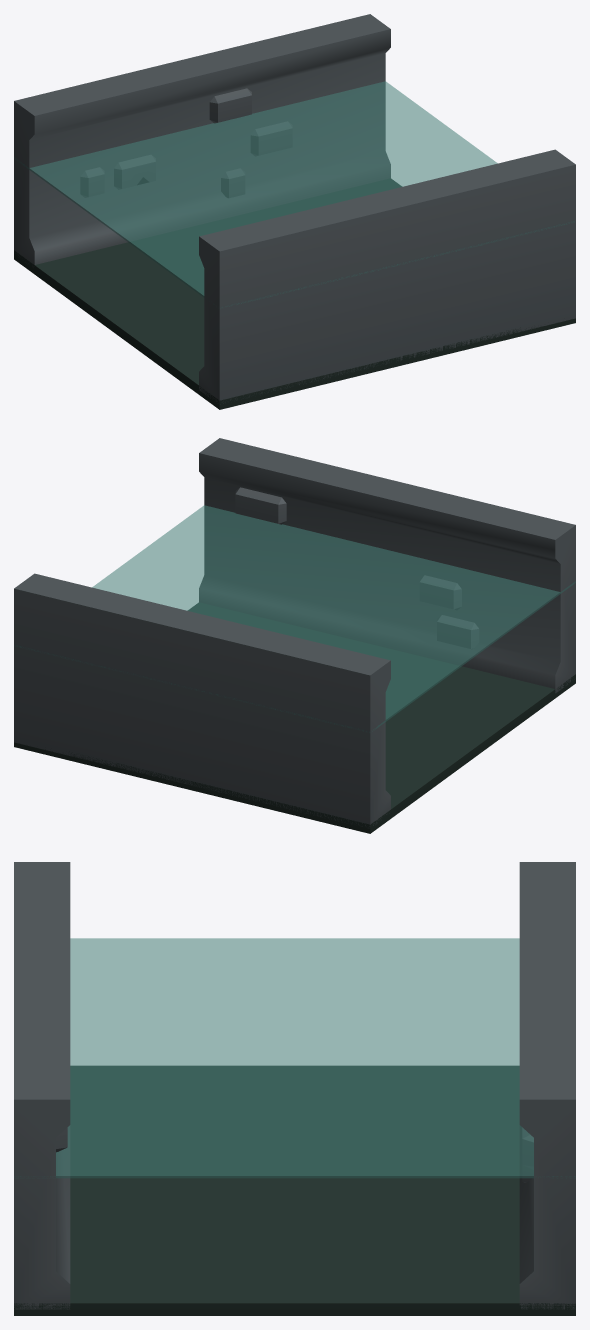
The model's file is floor_pool_runner_A.glb.
3 views of the same model, one above another, from view 1: azimuth 30°, elevation 25°; view 2: azimuth 150°, elevation 25°; view 3: azimuth 270°, elevation 25° (orthographic). The views are drawn at different scales.
Visible parts, largest first — view 1: Item; view 2: Item; view 3: Item.
Part boxes in pixels (x1=…): Item: x1=14, y1=14, x2=575, y2=409; Item: x1=14, y1=438, x2=575, y2=833; Item: x1=14, y1=862, x2=575, y2=1315.
Bounding box in the file's own units: 4 × 1.7 × 4.
Materials: 3 (3 with a texture image).
